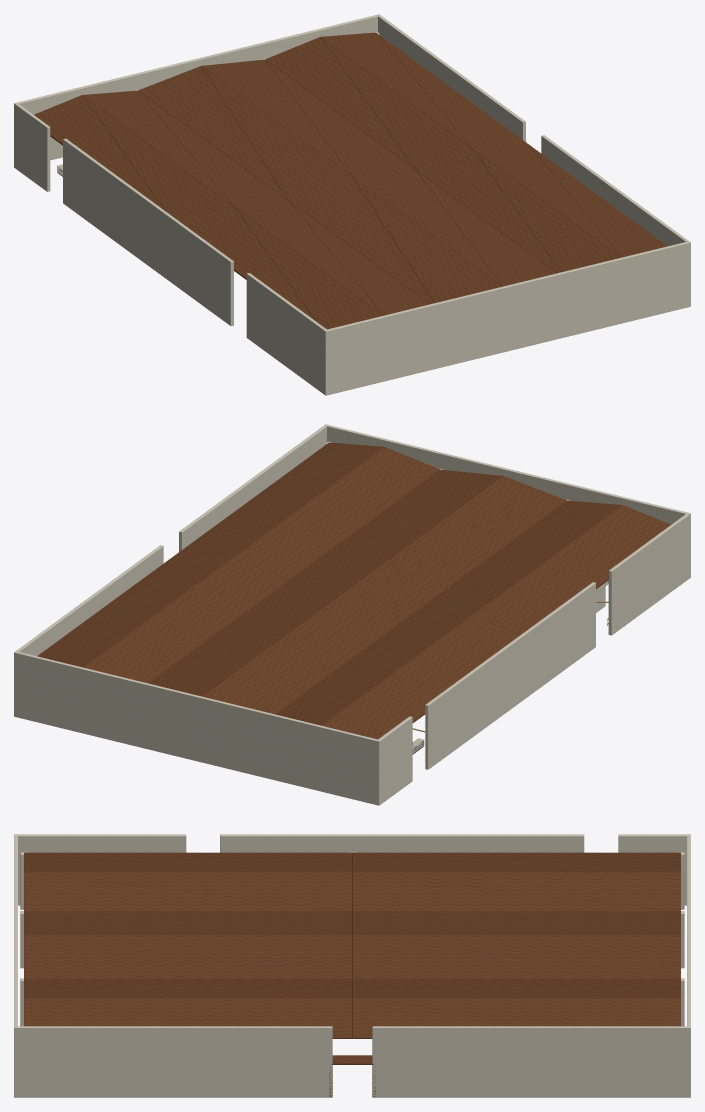
The model's file is SOL_D10_directory_03_remaining_batch.glb.
3 renders of one model, top to bottom at view 1: azimuth 30°, elevation 25°; view 2: azimuth 150°, elevation 25°; view 3: azimuth 270°, elevation 25°, orthographic. The views are drawn at different scales.
Visible parts, largest first — view 1: C_aft, C_service_boundary_1, C_service_boundary_2, C_lantern_vault_1_0_3, C_lantern_vault_1_0_2, C_lantern_vault_1_1_2, C_fore, C_lantern_vault_1_1_3, C_lantern_vault_0_0_3, C_lantern_vault_0_0_2, C_lantern_vault_0_1_2, C_lantern_vault_2_0_3 (+19 smaller); view 2: C_fore, C_service_boundary_1, C_service_boundary_2, C_lantern_vault_1_1_2, C_lantern_vault_1_1_3, C_lantern_vault_1_0_3, C_lantern_vault_1_0_2, C_lantern_vault_0_1_2, C_lantern_vault_0_0_3, C_lantern_vault_0_1_3, C_lantern_vault_2_1_3, C_lantern_vault_2_0_3 (+19 smaller); view 3: C_arrival_fore, C_arrival_aft, C_lantern_vault_1_1_0, C_lantern_vault_1_0_0, C_lantern_vault_1_0_1, C_lantern_vault_1_1_1, C_service_boundary_1, C_lantern_vault_2_0_1, C_lantern_vault_2_1_1, C_lantern_vault_2_1_0, C_lantern_vault_2_0_0, C_lantern_vault_0_1_0 (+20 smaller).
Boxes of the visible parts, <box> form: C_aft: <box>324,241,690,395</box>; C_service_boundary_1: <box>63,138,233,325</box>; C_service_boundary_2: <box>246,273,328,395</box>; C_lantern_vault_1_0_3: <box>201,66,351,201</box>; C_lantern_vault_1_0_2: <box>138,66,288,200</box>; C_lantern_vault_1_1_2: <box>289,177,433,304</box>; C_fore: <box>14,14,379,168</box>; C_lantern_vault_1_1_3: <box>353,177,501,303</box>; C_lantern_vault_0_0_3: <box>321,37,471,170</box>; C_lantern_vault_0_0_2: <box>265,37,415,169</box>; C_lantern_vault_0_1_2: <box>416,148,560,273</box>; C_lantern_vault_2_0_3: <box>82,95,232,225</box>; C_fore: <box>14,651,380,805</box>; C_service_boundary_1: <box>425,582,595,769</box>; C_service_boundary_2: <box>608,513,690,635</box>; C_lantern_vault_1_1_2: <box>353,501,566,611</box>; C_lantern_vault_1_1_3: <box>353,476,566,586</box>; C_lantern_vault_1_0_3: <box>203,587,415,696</box>; C_lantern_vault_1_0_2: <box>203,612,414,714</box>; C_lantern_vault_0_1_2: <box>233,470,439,580</box>; C_lantern_vault_0_0_3: <box>83,558,288,667</box>; C_lantern_vault_0_1_3: <box>234,447,439,557</box>; C_lantern_vault_2_1_3: <box>473,505,670,614</box>; C_lantern_vault_2_0_3: <box>322,616,519,725</box>; C_arrival_fore: <box>372,1026,690,1097</box>; C_arrival_aft: <box>14,1026,332,1097</box>; C_lantern_vault_1_1_0: <box>25,935,352,978</box>; C_lantern_vault_1_0_0: <box>354,935,680,978</box>; C_lantern_vault_1_0_1: <box>352,935,679,978</box>; C_lantern_vault_1_1_1: <box>24,935,351,978</box>; C_service_boundary_1: <box>220,834,584,852</box>; C_lantern_vault_2_0_1: <box>352,872,679,911</box>; C_lantern_vault_2_1_1: <box>24,872,350,911</box>; C_lantern_vault_2_1_0: <box>26,872,352,911</box>; C_lantern_vault_2_0_0: <box>355,872,680,911</box>; C_lantern_vault_0_1_0: <box>25,998,352,1037</box>.
Bounding box in the file's own units: 46 × 7.75 × 68.
Materials: 41 (40 with a texture image).
